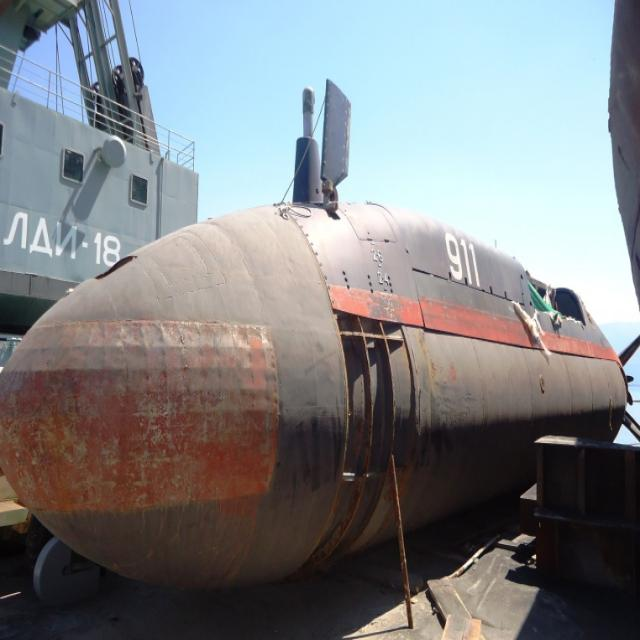submarine: (1, 77, 640, 602)
